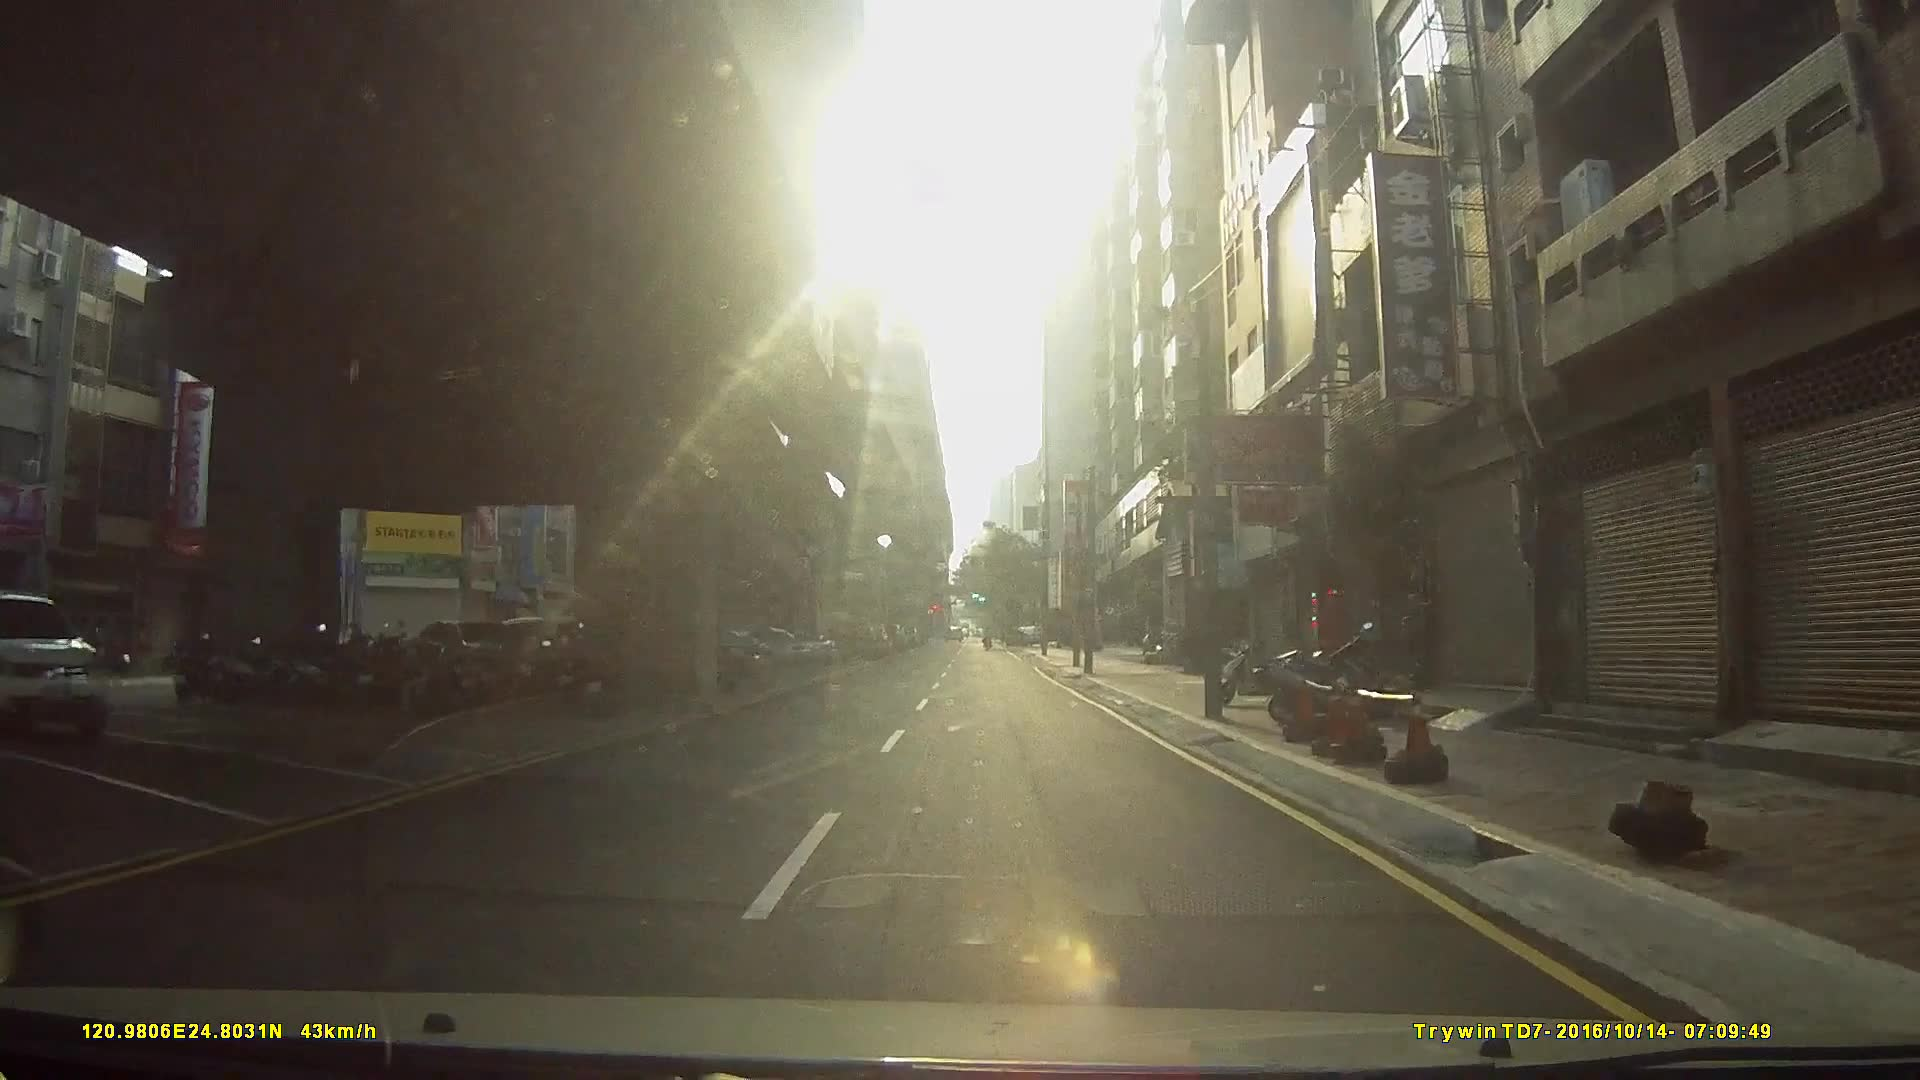vehicle: (1, 591, 105, 740)
